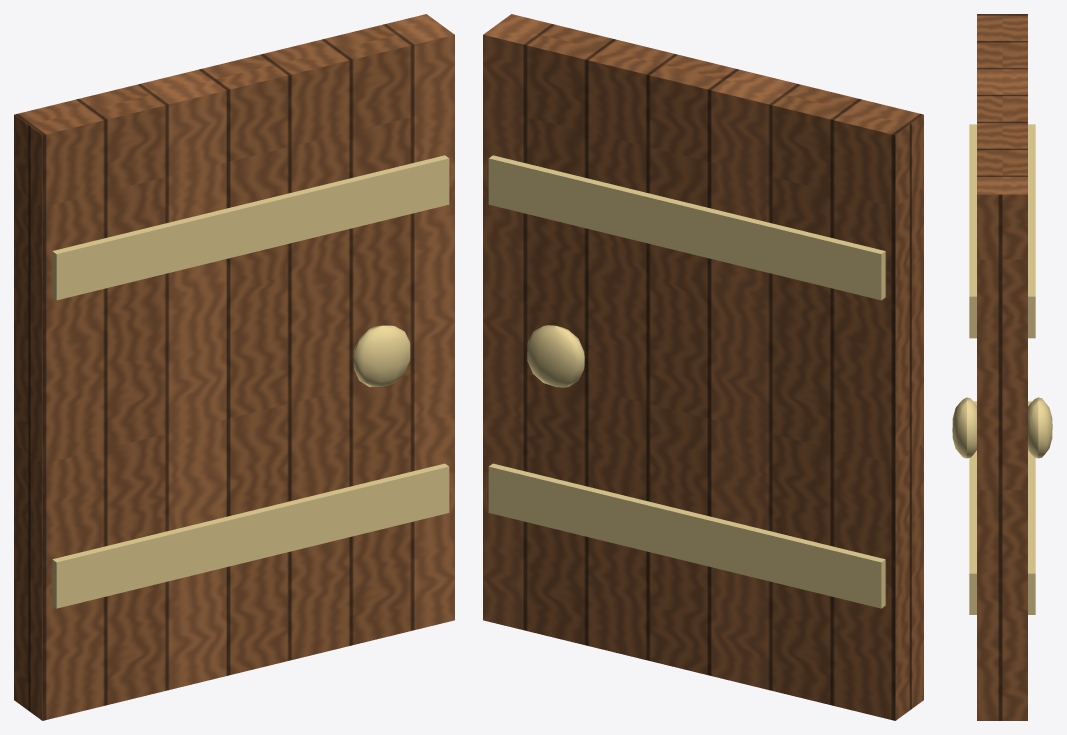
File: ruin_gate.glb
3 renders of one model, left to right at view 1: azimuth 30°, elevation 25°; view 2: azimuth 150°, elevation 25°; view 3: azimuth 270°, elevation 25°, orthographic. The views are drawn at different scales.
Visible parts, largest first — view 1: ruin_gate; view 2: ruin_gate; view 3: ruin_gate.
Part boxes in pixels (bbox=[...]): ruin_gate: bbox=[14, 14, 454, 720]; ruin_gate: bbox=[483, 14, 923, 720]; ruin_gate: bbox=[952, 14, 1052, 720].
Bounding box in the file's own units: 84 × 114 × 19.66.
Materials: 2 (1 with a texture image).
